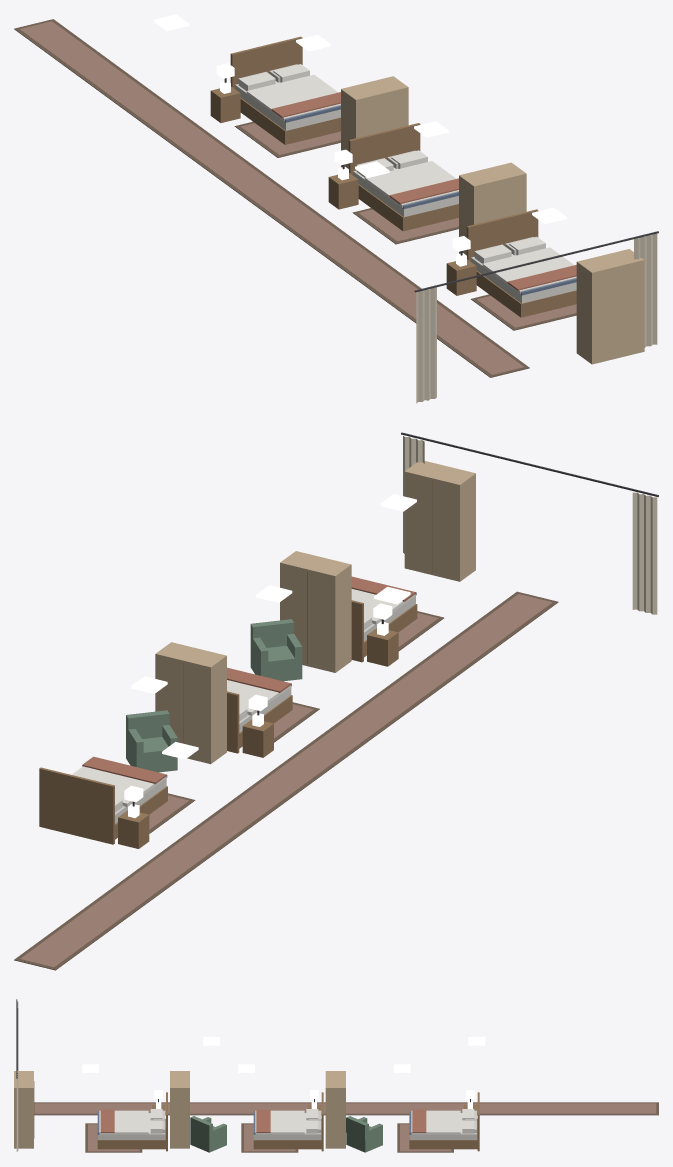
File: fine-s3.glb
3 renders of one model, top to bottom at view 1: azimuth 30°, elevation 25°; view 2: azimuth 150°, elevation 25°; view 3: azimuth 270°, elevation 25°, orthographic. The views are drawn at different scales.
Visible parts, largest first — view 1: soft-s3, dresser.008, bed-frame.006, bed-frame.007, bed-frame.008, dresser.006, dresser.007, nightstand.006, nightstand.007, nightstand.008; view 2: soft-s3, dresser.008, dresser.007, dresser.006, bed-frame.006, lounge-chair.005, lounge-chair.004, bed-frame.008, bed-frame.007, nightstand.006, nightstand.007, nightstand.008; view 3: soft-s3, dresser.006, dresser.007, dresser.008, bed-frame.006, bed-frame.007, bed-frame.008, lounge-chair.004, lounge-chair.005.
Boxes of the visible parts, <box> form: soft-s3: <box>14,19,658,403</box>; dresser.008: <box>576,249,644,364</box>; bed-frame.006: <box>230,36,340,144</box>; bed-frame.007: <box>348,123,458,231</box>; bed-frame.008: <box>466,209,576,317</box>; dresser.006: <box>341,76,408,168</box>; dresser.007: <box>459,162,526,255</box>; nightstand.006: <box>210,80,240,122</box>; nightstand.007: <box>328,167,358,209</box>; nightstand.008: <box>446,253,476,295</box>; soft-s3: <box>14,432,658,970</box>; dresser.008: <box>404,461,475,581</box>; dresser.007: <box>280,551,351,672</box>; dresser.006: <box>155,642,226,764</box>; bed-frame.006: <box>39,767,167,844</box>; lounge-chair.005: <box>250,619,302,681</box>; lounge-chair.004: <box>126,710,177,772</box>; bed-frame.008: <box>351,592,417,662</box>; bed-frame.007: <box>227,683,292,753</box>; nightstand.006: <box>118,803,149,848</box>; nightstand.007: <box>242,712,273,757</box>; nightstand.008: <box>367,621,398,666</box>; soft-s3: <box>16,999,658,1152</box>; dresser.006: <box>325,1071,345,1148</box>; dresser.007: <box>170,1071,189,1148</box>; dresser.008: <box>14,1071,34,1148</box>; bed-frame.006: <box>409,1092,479,1151</box>; bed-frame.007: <box>253,1092,323,1151</box>; bed-frame.008: <box>97,1092,167,1151</box>; lounge-chair.004: <box>346,1116,382,1152</box>; lounge-chair.005: <box>190,1116,226,1152</box>.
Size of the model in its own units: 5.55 by 2.51 by 19.28.
